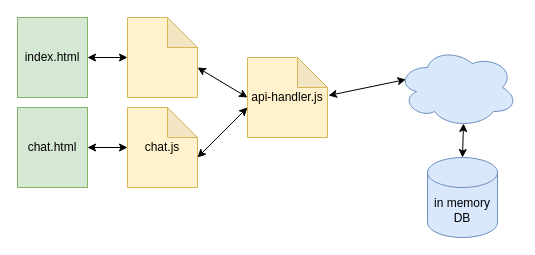
Some shapes in this 535 by 255 pixel diagram are drawn without their labels. The centre of each missing label's shape, as x and y in pixels:
API: pixel 457 87
index.js: pixel 162 57
